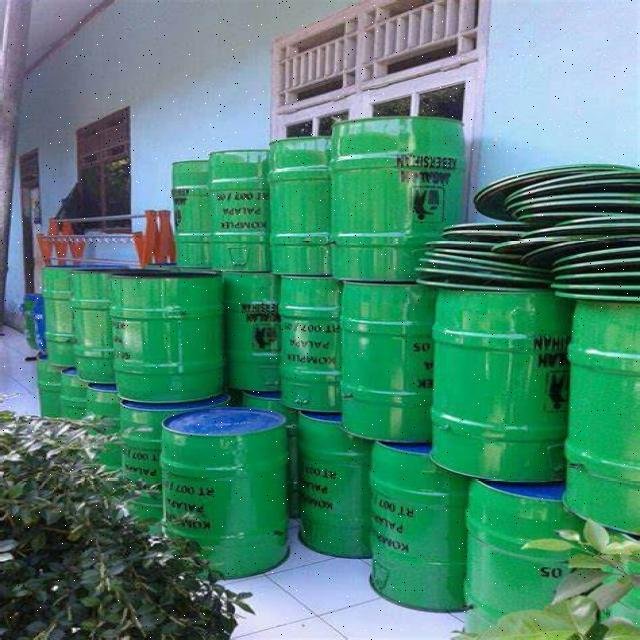garbage container: (323, 63, 484, 287), (426, 283, 573, 487), (162, 401, 299, 571), (472, 474, 596, 638), (324, 277, 436, 446), (367, 441, 467, 620), (119, 259, 243, 403), (574, 281, 640, 534), (297, 419, 391, 571), (94, 389, 173, 541), (270, 137, 353, 275), (61, 249, 144, 387), (277, 287, 358, 426), (165, 137, 236, 275), (202, 138, 277, 267)
